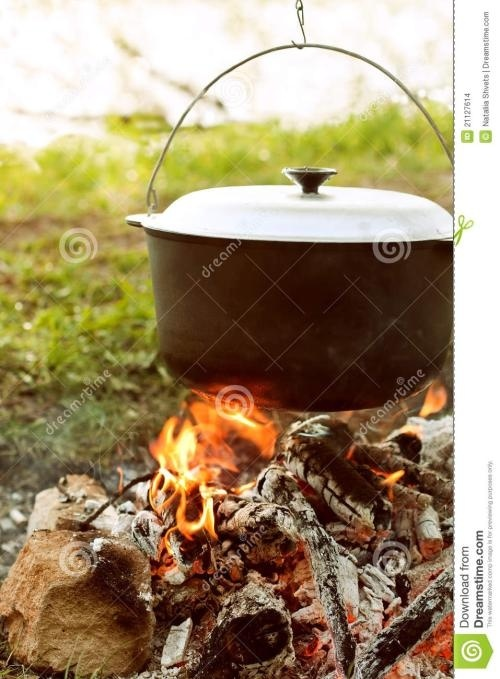fire: (131, 385, 278, 572), (346, 378, 448, 493)
